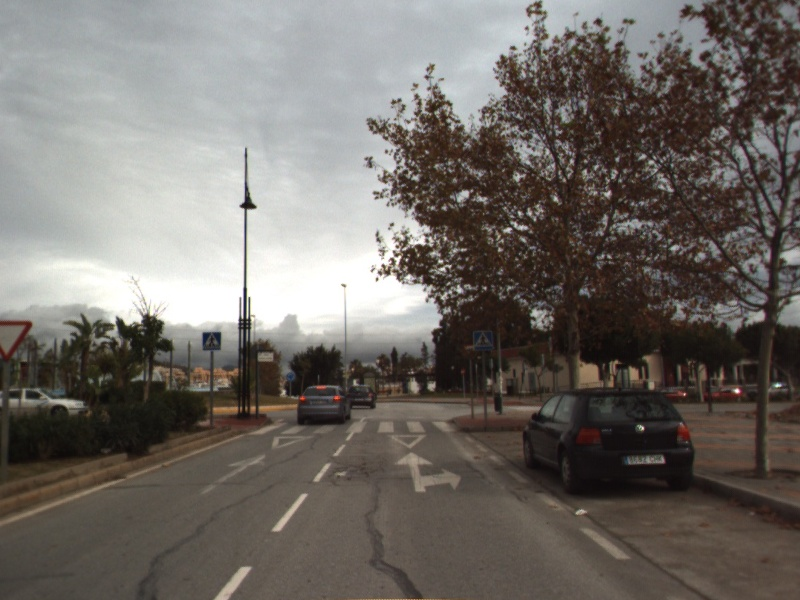STRAIGHT: (194, 451, 268, 497)
STRAIGHT_RIGHT: (392, 450, 463, 493)
